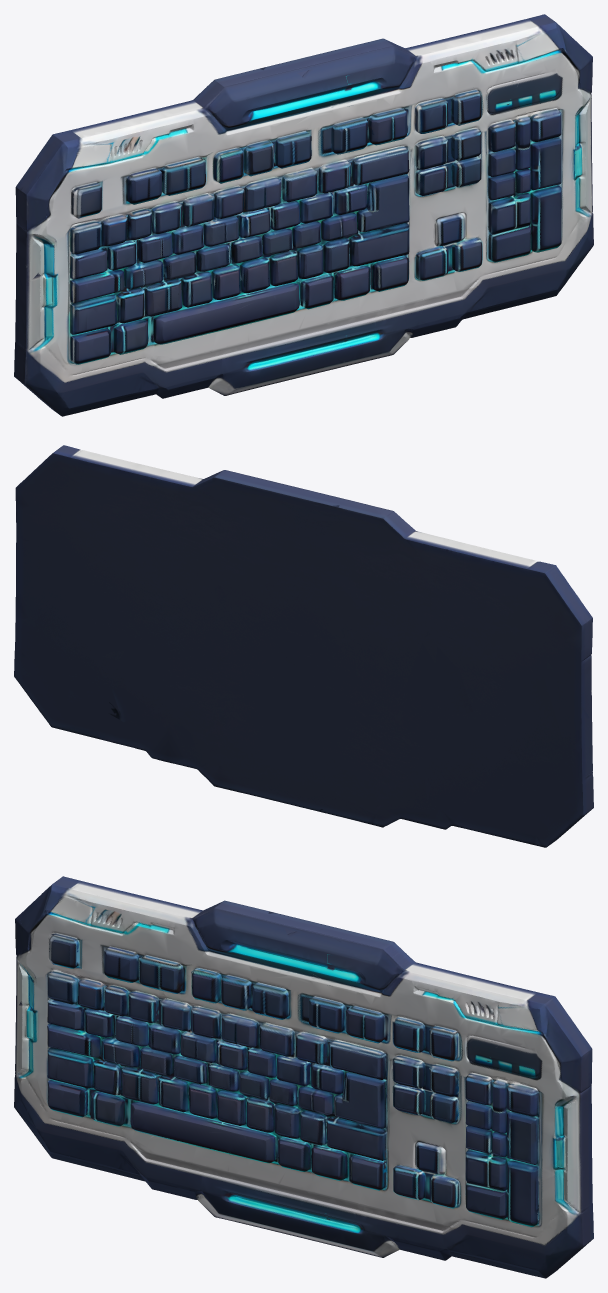
The model's file is keyboard.fbx.
The picture shows the model from 3 angles, top to bottom: view 1: azimuth 30°, elevation 25°; view 2: azimuth 150°, elevation 25°; view 3: azimuth 330°, elevation 25°; orthographic projection.
Visible parts, largest first — view 1: model.002; view 2: model.002; view 3: model.002.
Boxes of the visible parts, x1,y1,x2,y2 form: model.002: (14, 14, 593, 416); model.002: (14, 445, 593, 847); model.002: (14, 876, 593, 1278).
Bounding box in the file's own units: 175 × 90.77 × 10.79.
Materials: 1 (1 with a texture image).
